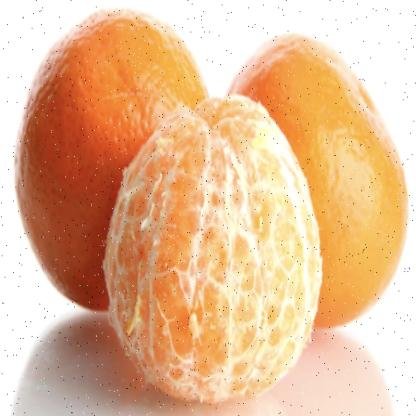fresh: (15, 11, 408, 395)
